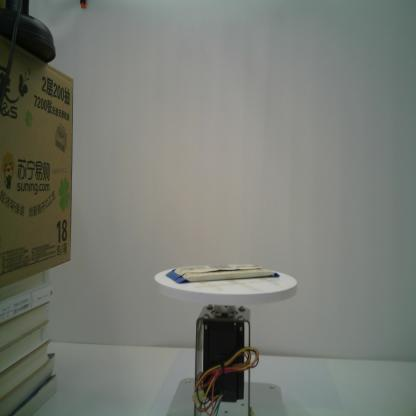Chocolate: (164, 261, 282, 286)
